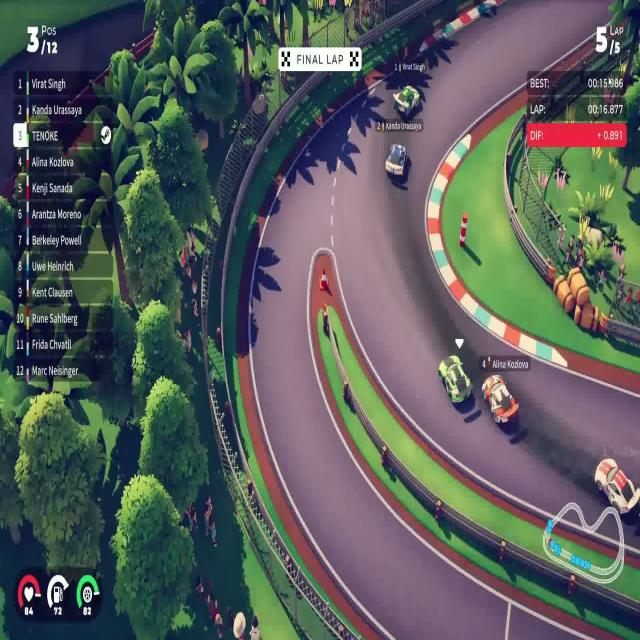car: (594, 456, 639, 516), (481, 373, 519, 428), (437, 354, 473, 406), (392, 84, 420, 119), (385, 142, 408, 180)
